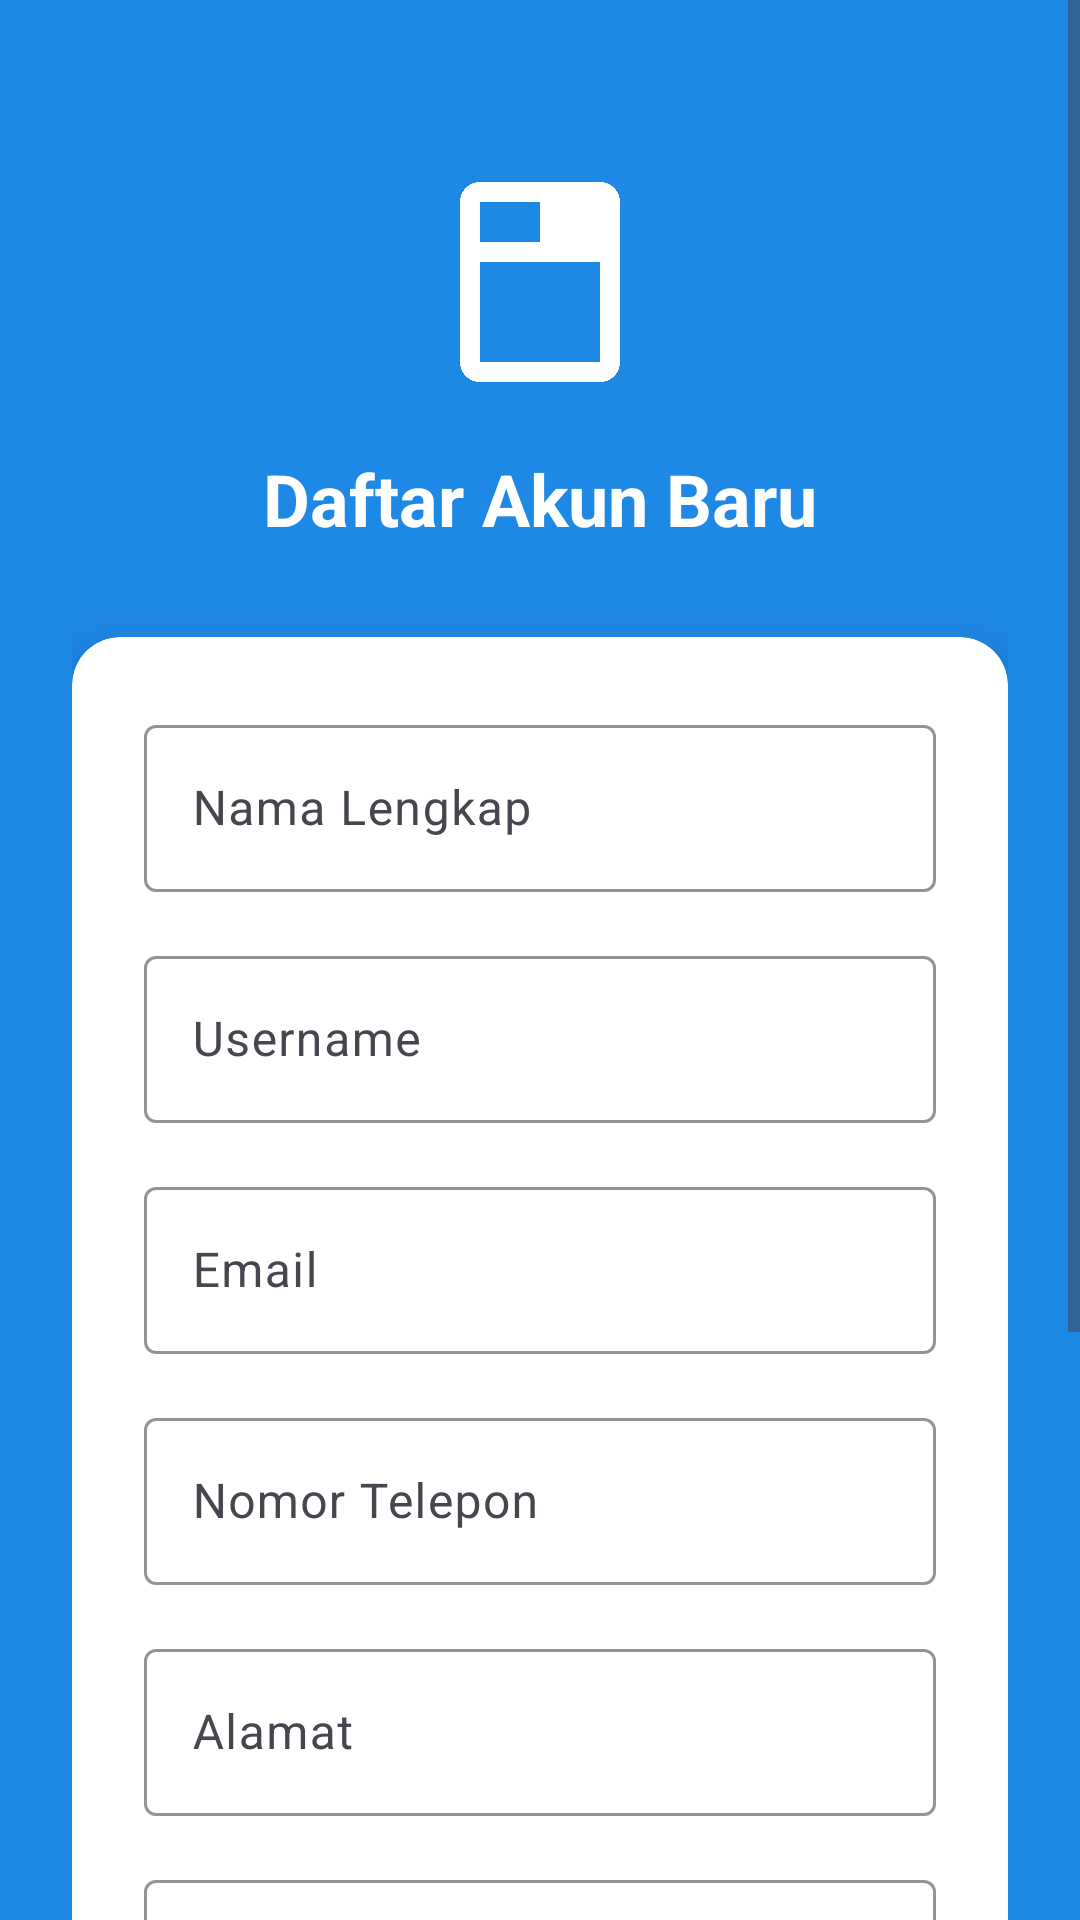

Icons on this 1080 x 1920 Android screen, each with the point to tap as [x,y]:
laundry: [540,282]
